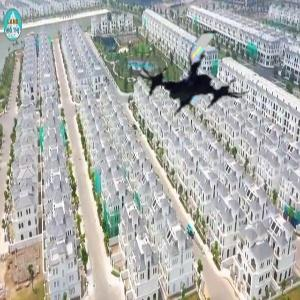drone: (143, 16, 258, 131)
